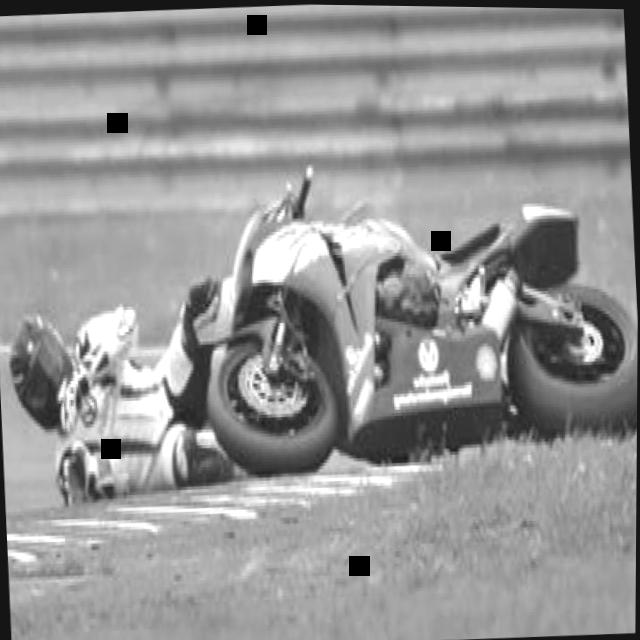Fall-Detected: (13, 236, 269, 524)
